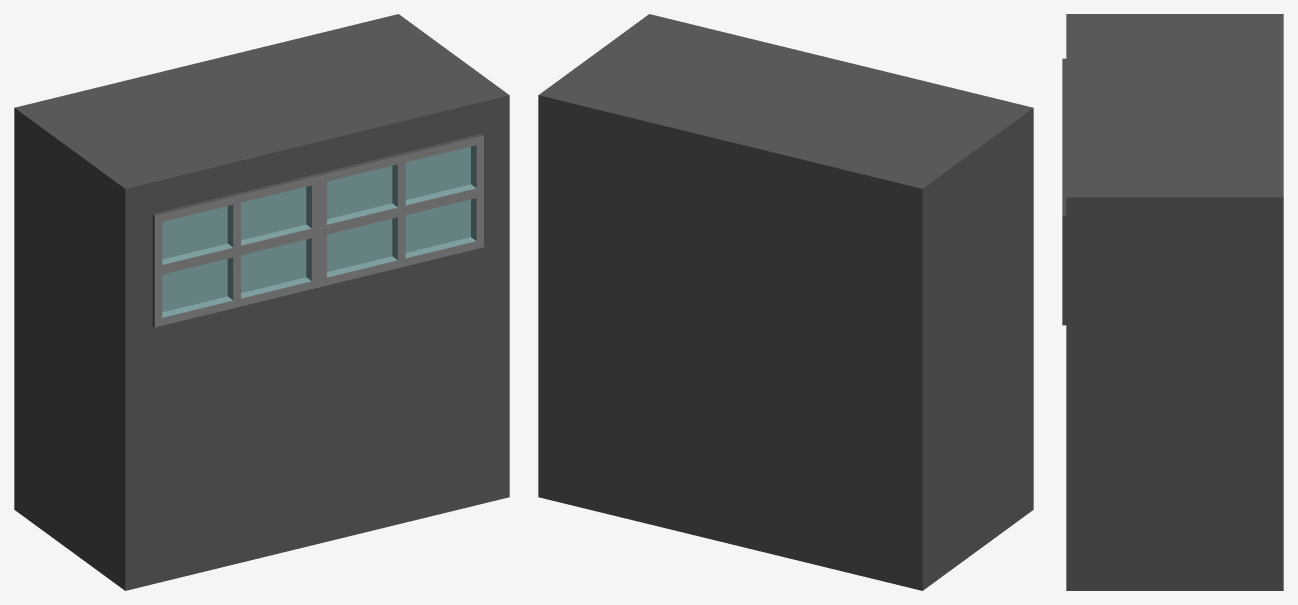
File: wall2.fbx
3 renders of one model, left to right at view 1: azimuth 30°, elevation 25°; view 2: azimuth 150°, elevation 25°; view 3: azimuth 270°, elevation 25°, orthographic. The views are drawn at different scales.
Parts seen in each view (by area): view 1: pCube101, pCube102; view 2: pCube101; view 3: pCube101, pCube102.
Part boxes in pixels (x1,y1,x2,y2): pCube101: (14, 14, 509, 590); pCube102: (152, 134, 483, 327); pCube101: (538, 14, 1033, 590); pCube101: (1066, 14, 1283, 590); pCube102: (1062, 58, 1066, 325).
Bounding box in the file's own units: 2 × 2 × 1.02.
1 material, 1 textured.
